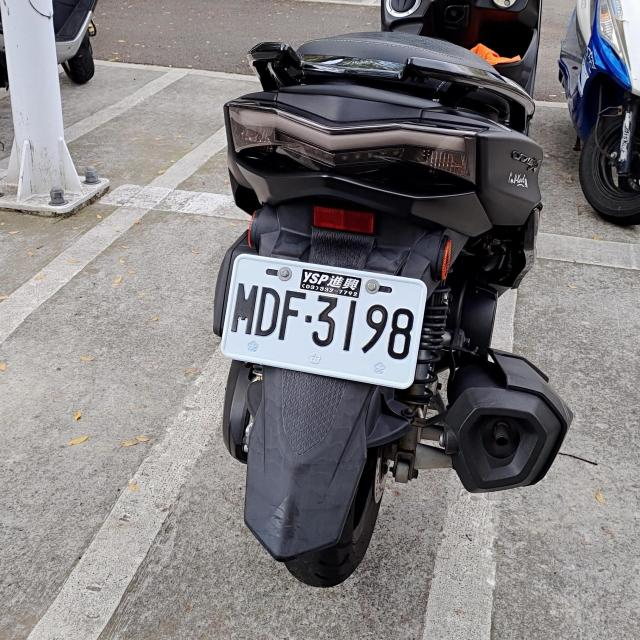W: (217, 252, 427, 385)
